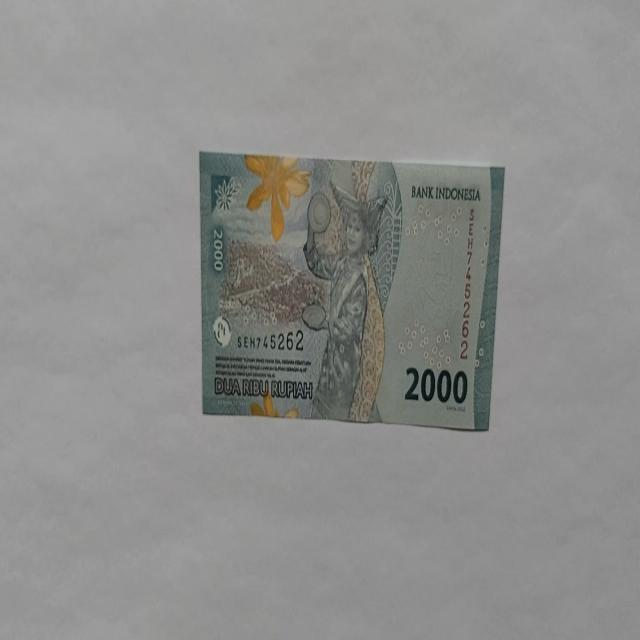dua ribu rupiah: (198, 152, 506, 431), (301, 178, 389, 422)
